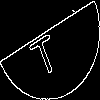T: (25, 25, 62, 79)
